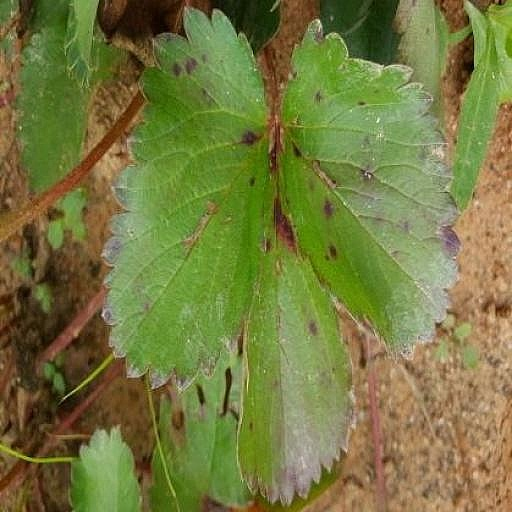Leaf Spot: (98, 117, 270, 507), (275, 148, 463, 495), (237, 2, 356, 382)
